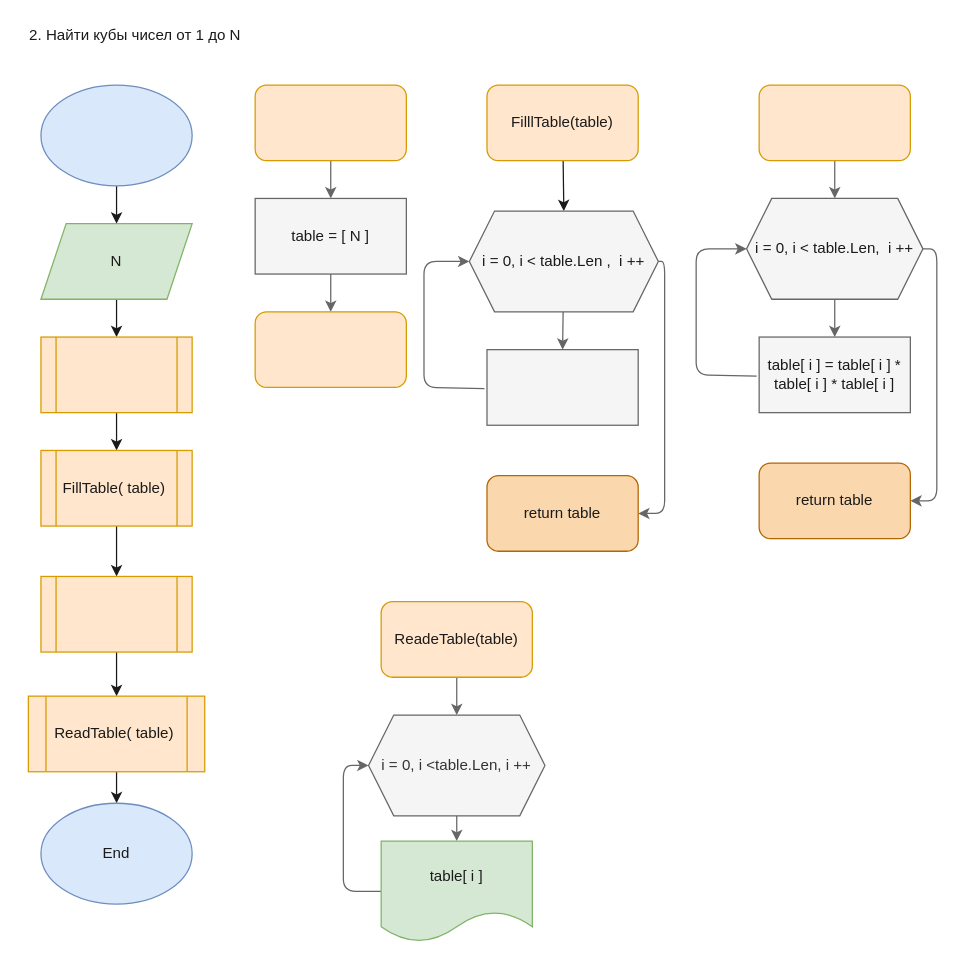
Image size: 969x964. Some labels were removed from this diagram. The centre of each missing label's shape, as x and y in pixels:
AddTable( table): (116,613)
AddTable(table): (834,122)
CreateTable(N): (330,122)
CreatTable( N): (116,374)
return (table): (330,349)
Start: (116,135)
table[ i ] = [ i+1 ]: (562,386)
